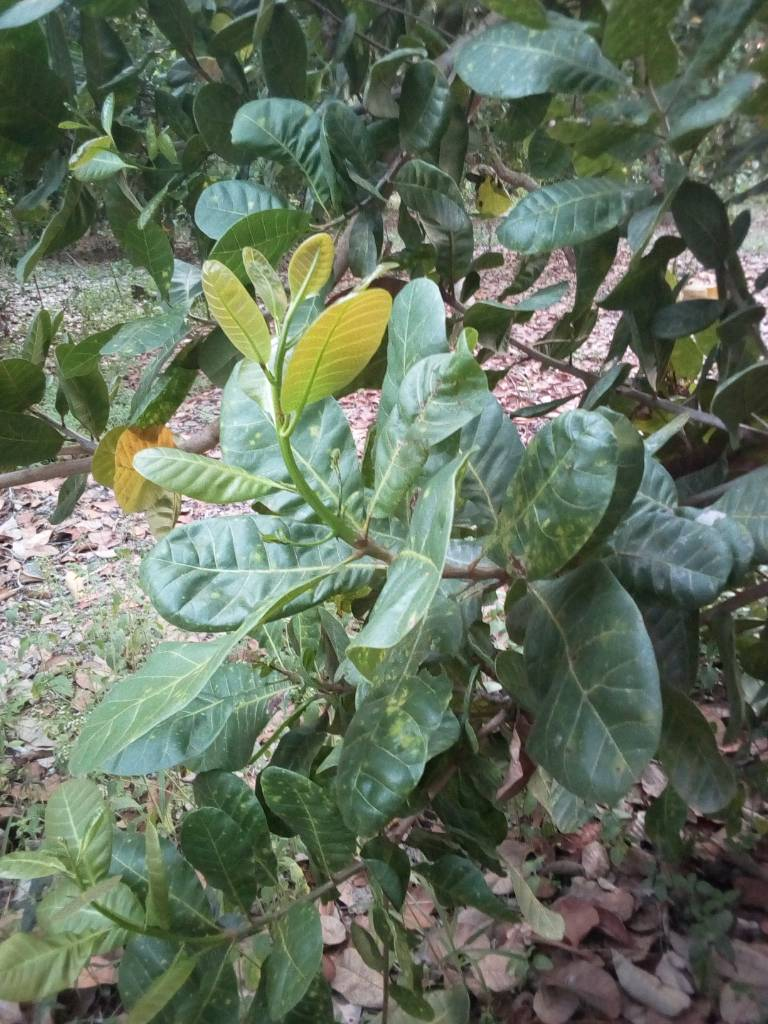Alternariose: (519, 566, 658, 802), (491, 408, 616, 583), (330, 691, 433, 842), (258, 763, 343, 875)
